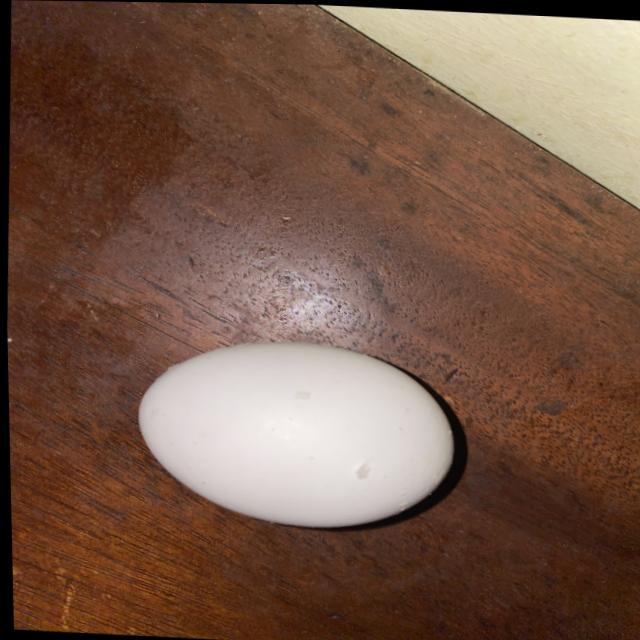egg: (126, 330, 465, 543)
